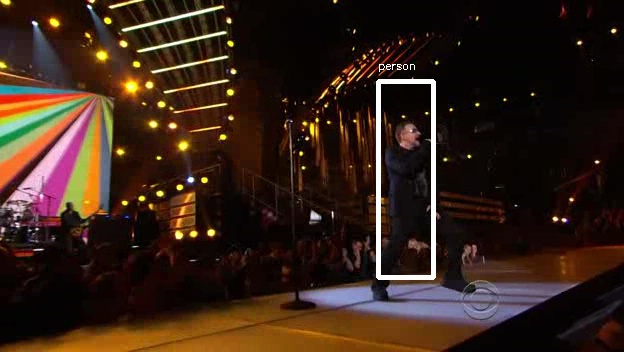person: (383, 127, 448, 245), (380, 127, 445, 245), (386, 127, 451, 245), (383, 124, 448, 242), (383, 130, 448, 248)
target_negative: (86, 263, 452, 301), (11, 280, 141, 346), (118, 79, 516, 95), (329, 100, 508, 118), (429, 251, 461, 315), (611, 251, 612, 274)
